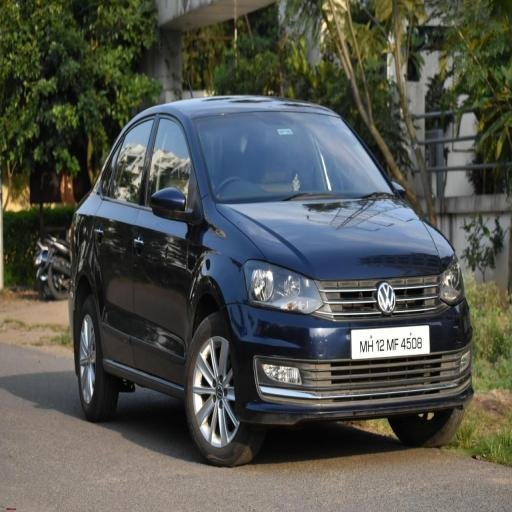License: (349, 322, 430, 356)
